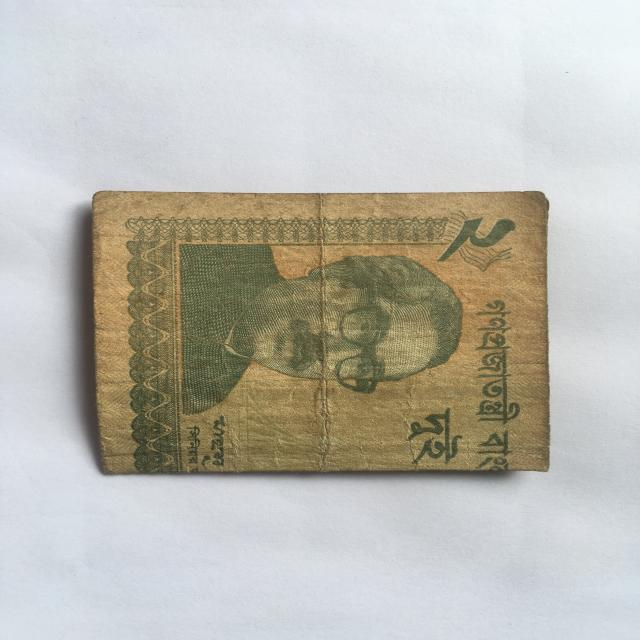Taka: (87, 175, 560, 481)
